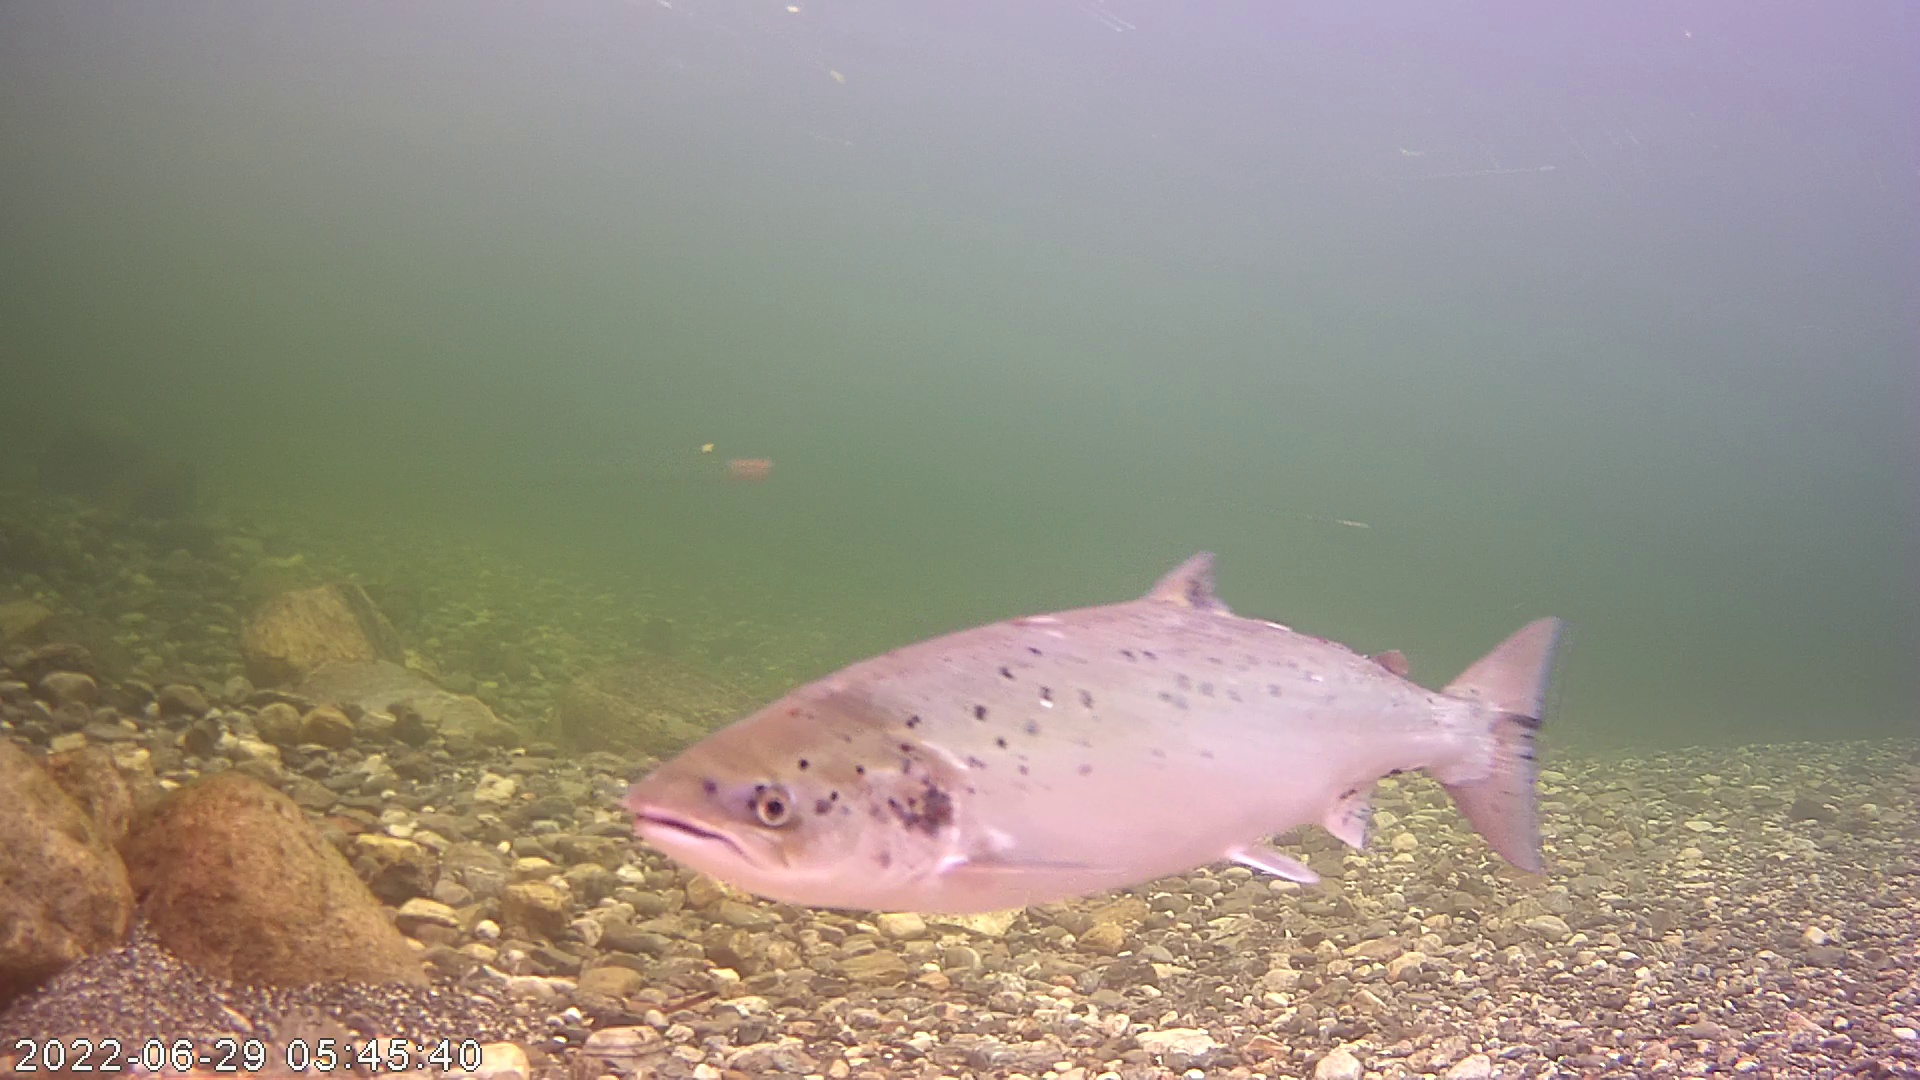salmon: (637, 485, 1578, 934)
